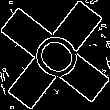O_SE: (21, 22, 89, 88)
